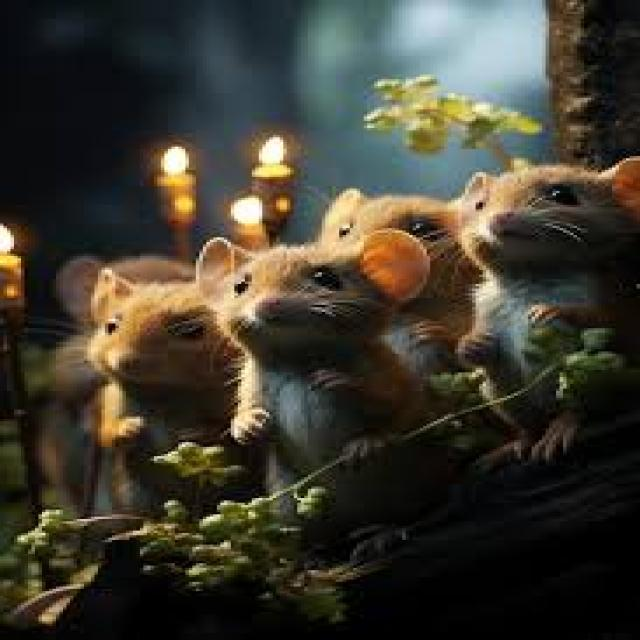Rat: (76, 129, 618, 466)
